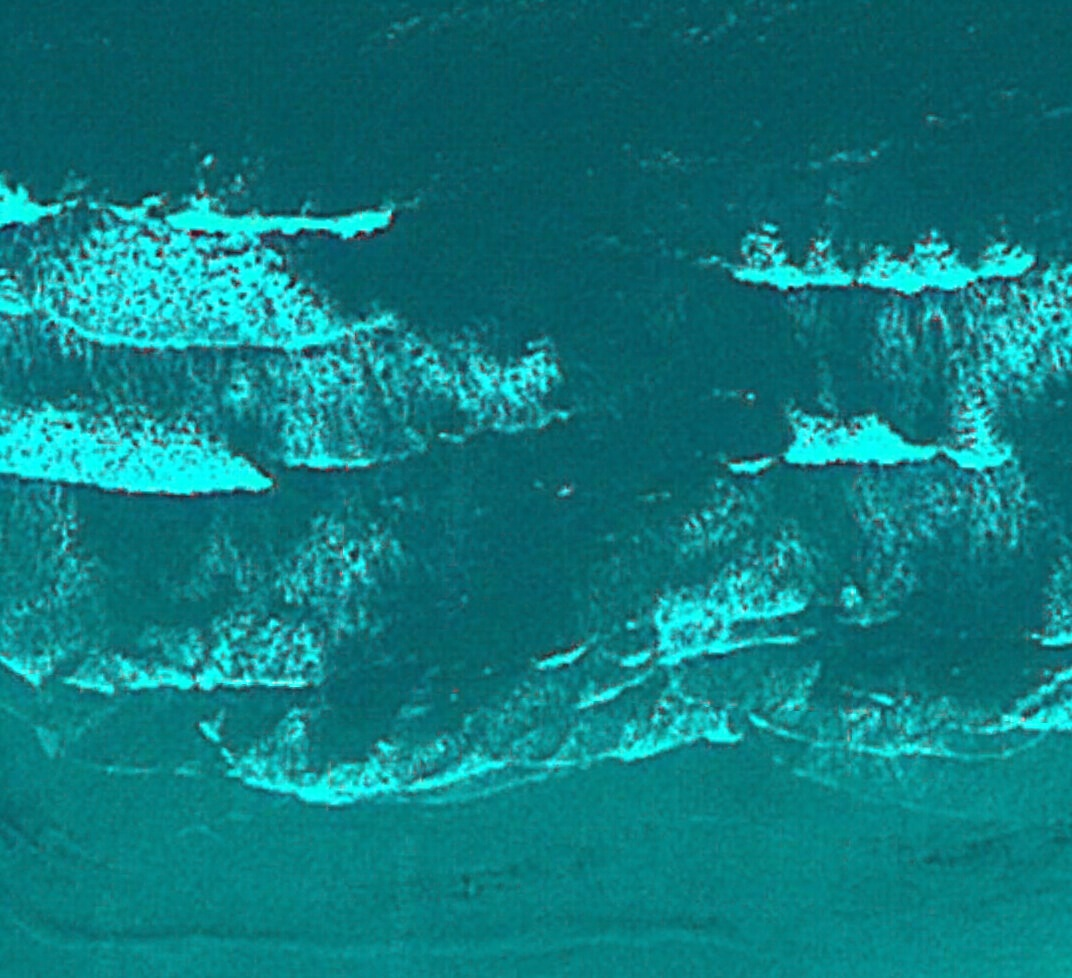rip_current: (301, 237, 804, 796)
